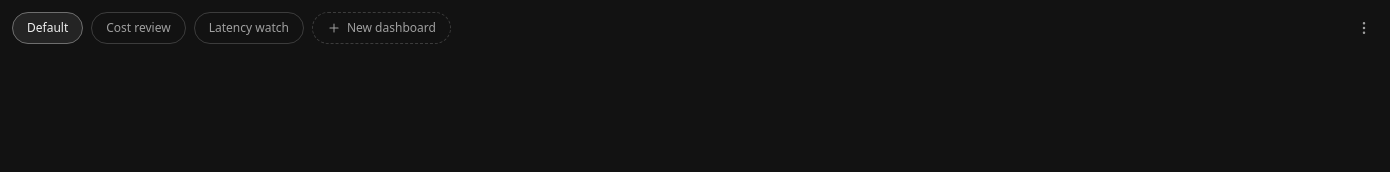
DashboardSwitcher › theDefaultOffersOnlyDuplicate
Click the button named "Dashboard actions" at (1364, 28), box [1350,14,1378,42]
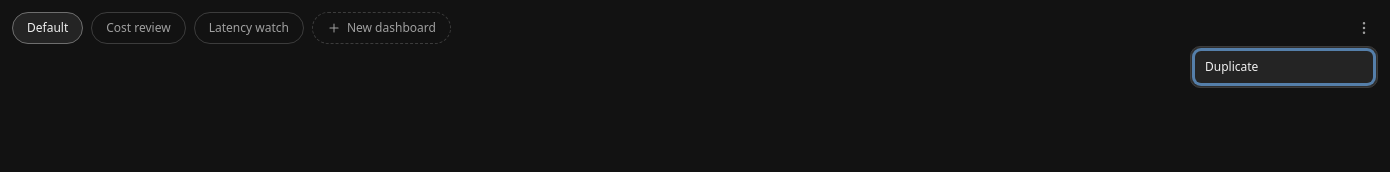
Result: the menu items read "Duplicate", in this order
Click the menu item "Duplicate" at (1284, 67), box [1195,51,1373,83]
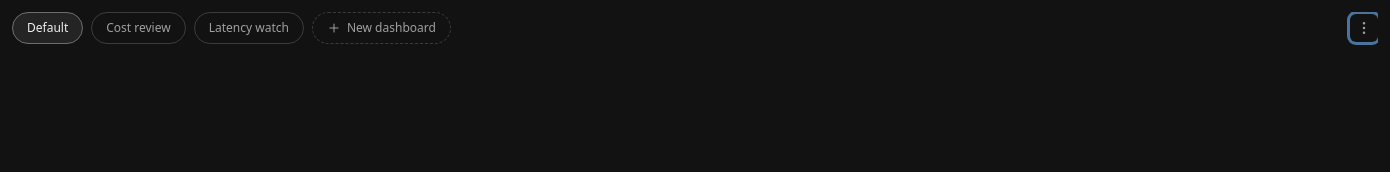
Result: the menu is gone
